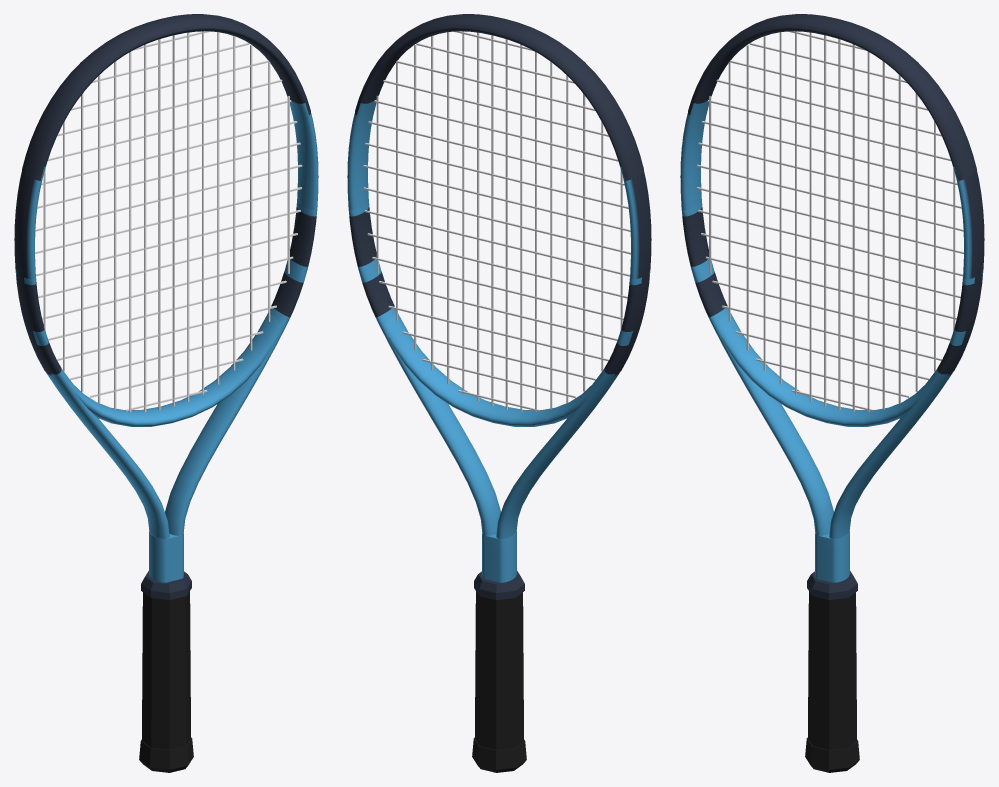
File: babolat-pure-drive-junior-25-2025.glb
The picture shows the model from 3 angles, left to right: view 1: azimuth 30°, elevation 25°; view 2: azimuth 150°, elevation 25°; view 3: azimuth 330°, elevation 25°; orthographic projection.
Visible parts, largest first — view 1: frame, strings_mains, strings_crosses, grip, bumper, grommets, butt_cap, collar; view 2: frame, strings_mains, strings_crosses, grip, bumper, grommets, butt_cap, collar; view 3: frame, strings_mains, strings_crosses, grip, bumper, grommets, butt_cap, collar.
Boxes of the visible parts, left/top/right/bottom form: frame: left=14, top=28, right=318, bottom=582; strings_mains: left=43, top=31, right=289, bottom=412; strings_crosses: left=35, top=31, right=302, bottom=411; grip: left=142, top=591, right=190, bottom=749; bumper: left=22, top=14, right=310, bottom=180; grommets: left=15, top=172, right=51, bottom=375; butt_cap: left=139, top=737, right=193, bottom=772; collar: left=141, top=571, right=191, bottom=599; frame: left=347, top=28, right=651, bottom=582; strings_mains: left=376, top=31, right=622, bottom=411; strings_crosses: left=363, top=31, right=630, bottom=411; grip: left=475, top=591, right=523, bottom=749; bumper: left=355, top=14, right=643, bottom=180; grommets: left=614, top=172, right=650, bottom=375; butt_cap: left=472, top=737, right=526, bottom=772; collar: left=474, top=571, right=524, bottom=599; frame: left=680, top=28, right=984, bottom=582; strings_mains: left=709, top=31, right=955, bottom=412; strings_crosses: left=696, top=31, right=963, bottom=411; grip: left=808, top=591, right=856, bottom=749; bumper: left=688, top=14, right=976, bottom=180; grommets: left=947, top=172, right=983, bottom=375; butt_cap: left=805, top=737, right=859, bottom=772; collar: left=807, top=571, right=857, bottom=599.
Size of the model in its own units: 0.2653 by 0.6353 by 0.0396.
